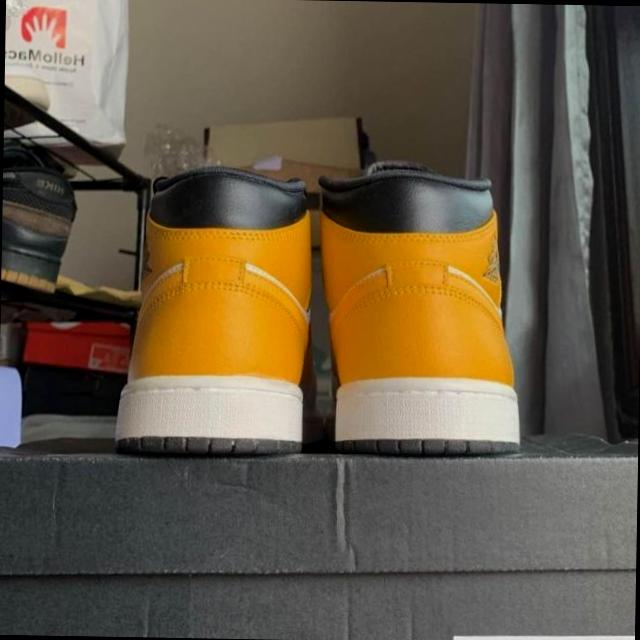nike_original_jordan: (311, 156, 526, 463), (106, 166, 321, 464)
